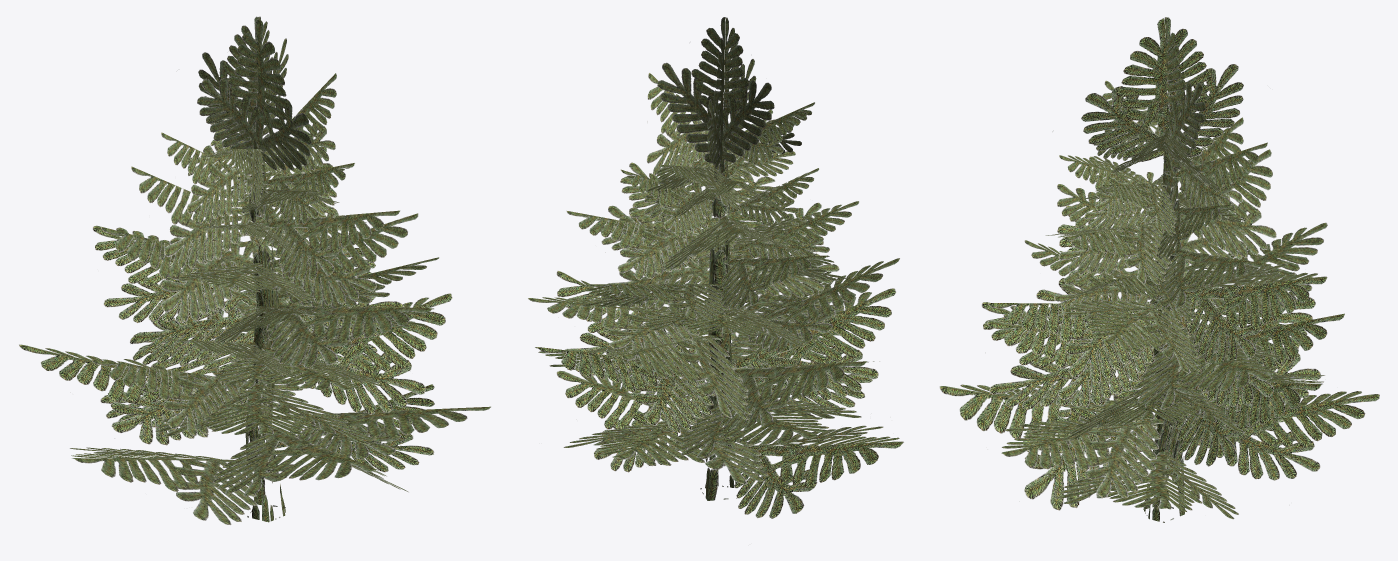
File: tree1.obj
The picture shows the model from 3 angles, left to right: view 1: azimuth 30°, elevation 25°; view 2: azimuth 150°, elevation 25°; view 3: azimuth 270°, elevation 25°; orthographic projection. The views are drawn at different scales.
Visible parts, largest first — view 1: unnamed_object1_nadel, unnamed_object1_stamm_stamm.jpg; view 2: unnamed_object1_nadel, unnamed_object1_stamm_stamm.jpg; view 3: unnamed_object1_nadel, unnamed_object1_stamm_stamm.jpg.
Part boxes in pixels (<box>): unnamed_object1_nadel: <box>19,16,490,525</box>; unnamed_object1_stamm_stamm.jpg: <box>245,139,285,522</box>; unnamed_object1_nadel: <box>528,17,903,518</box>; unnamed_object1_stamm_stamm.jpg: <box>700,140,736,500</box>; unnamed_object1_nadel: <box>939,17,1379,519</box>; unnamed_object1_stamm_stamm.jpg: <box>1143,143,1184,522</box>.
Bounding box in the file's own units: 61.92 × 78.98 × 64.72.
1 material, 1 textured.
